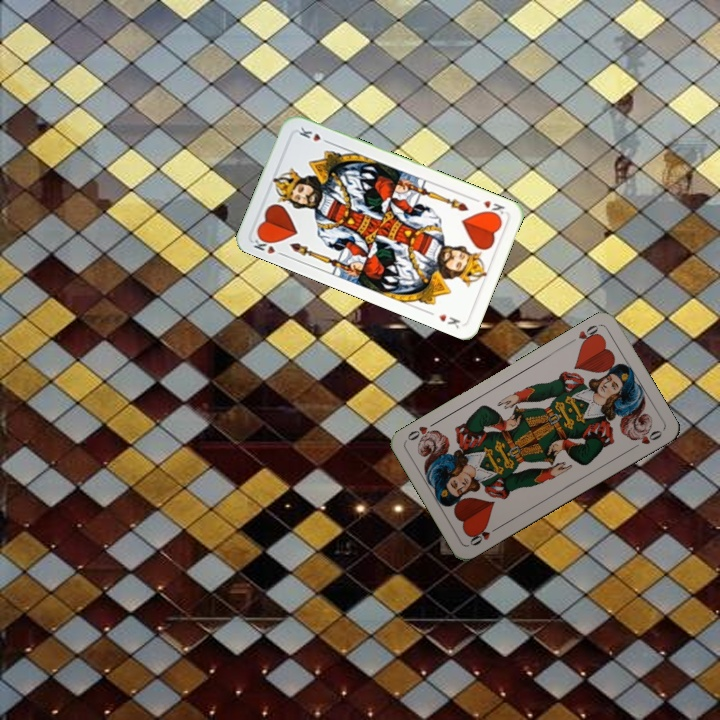HK: (249, 232, 288, 259), (469, 194, 507, 220)
HO: (565, 321, 603, 349), (465, 522, 502, 548)
